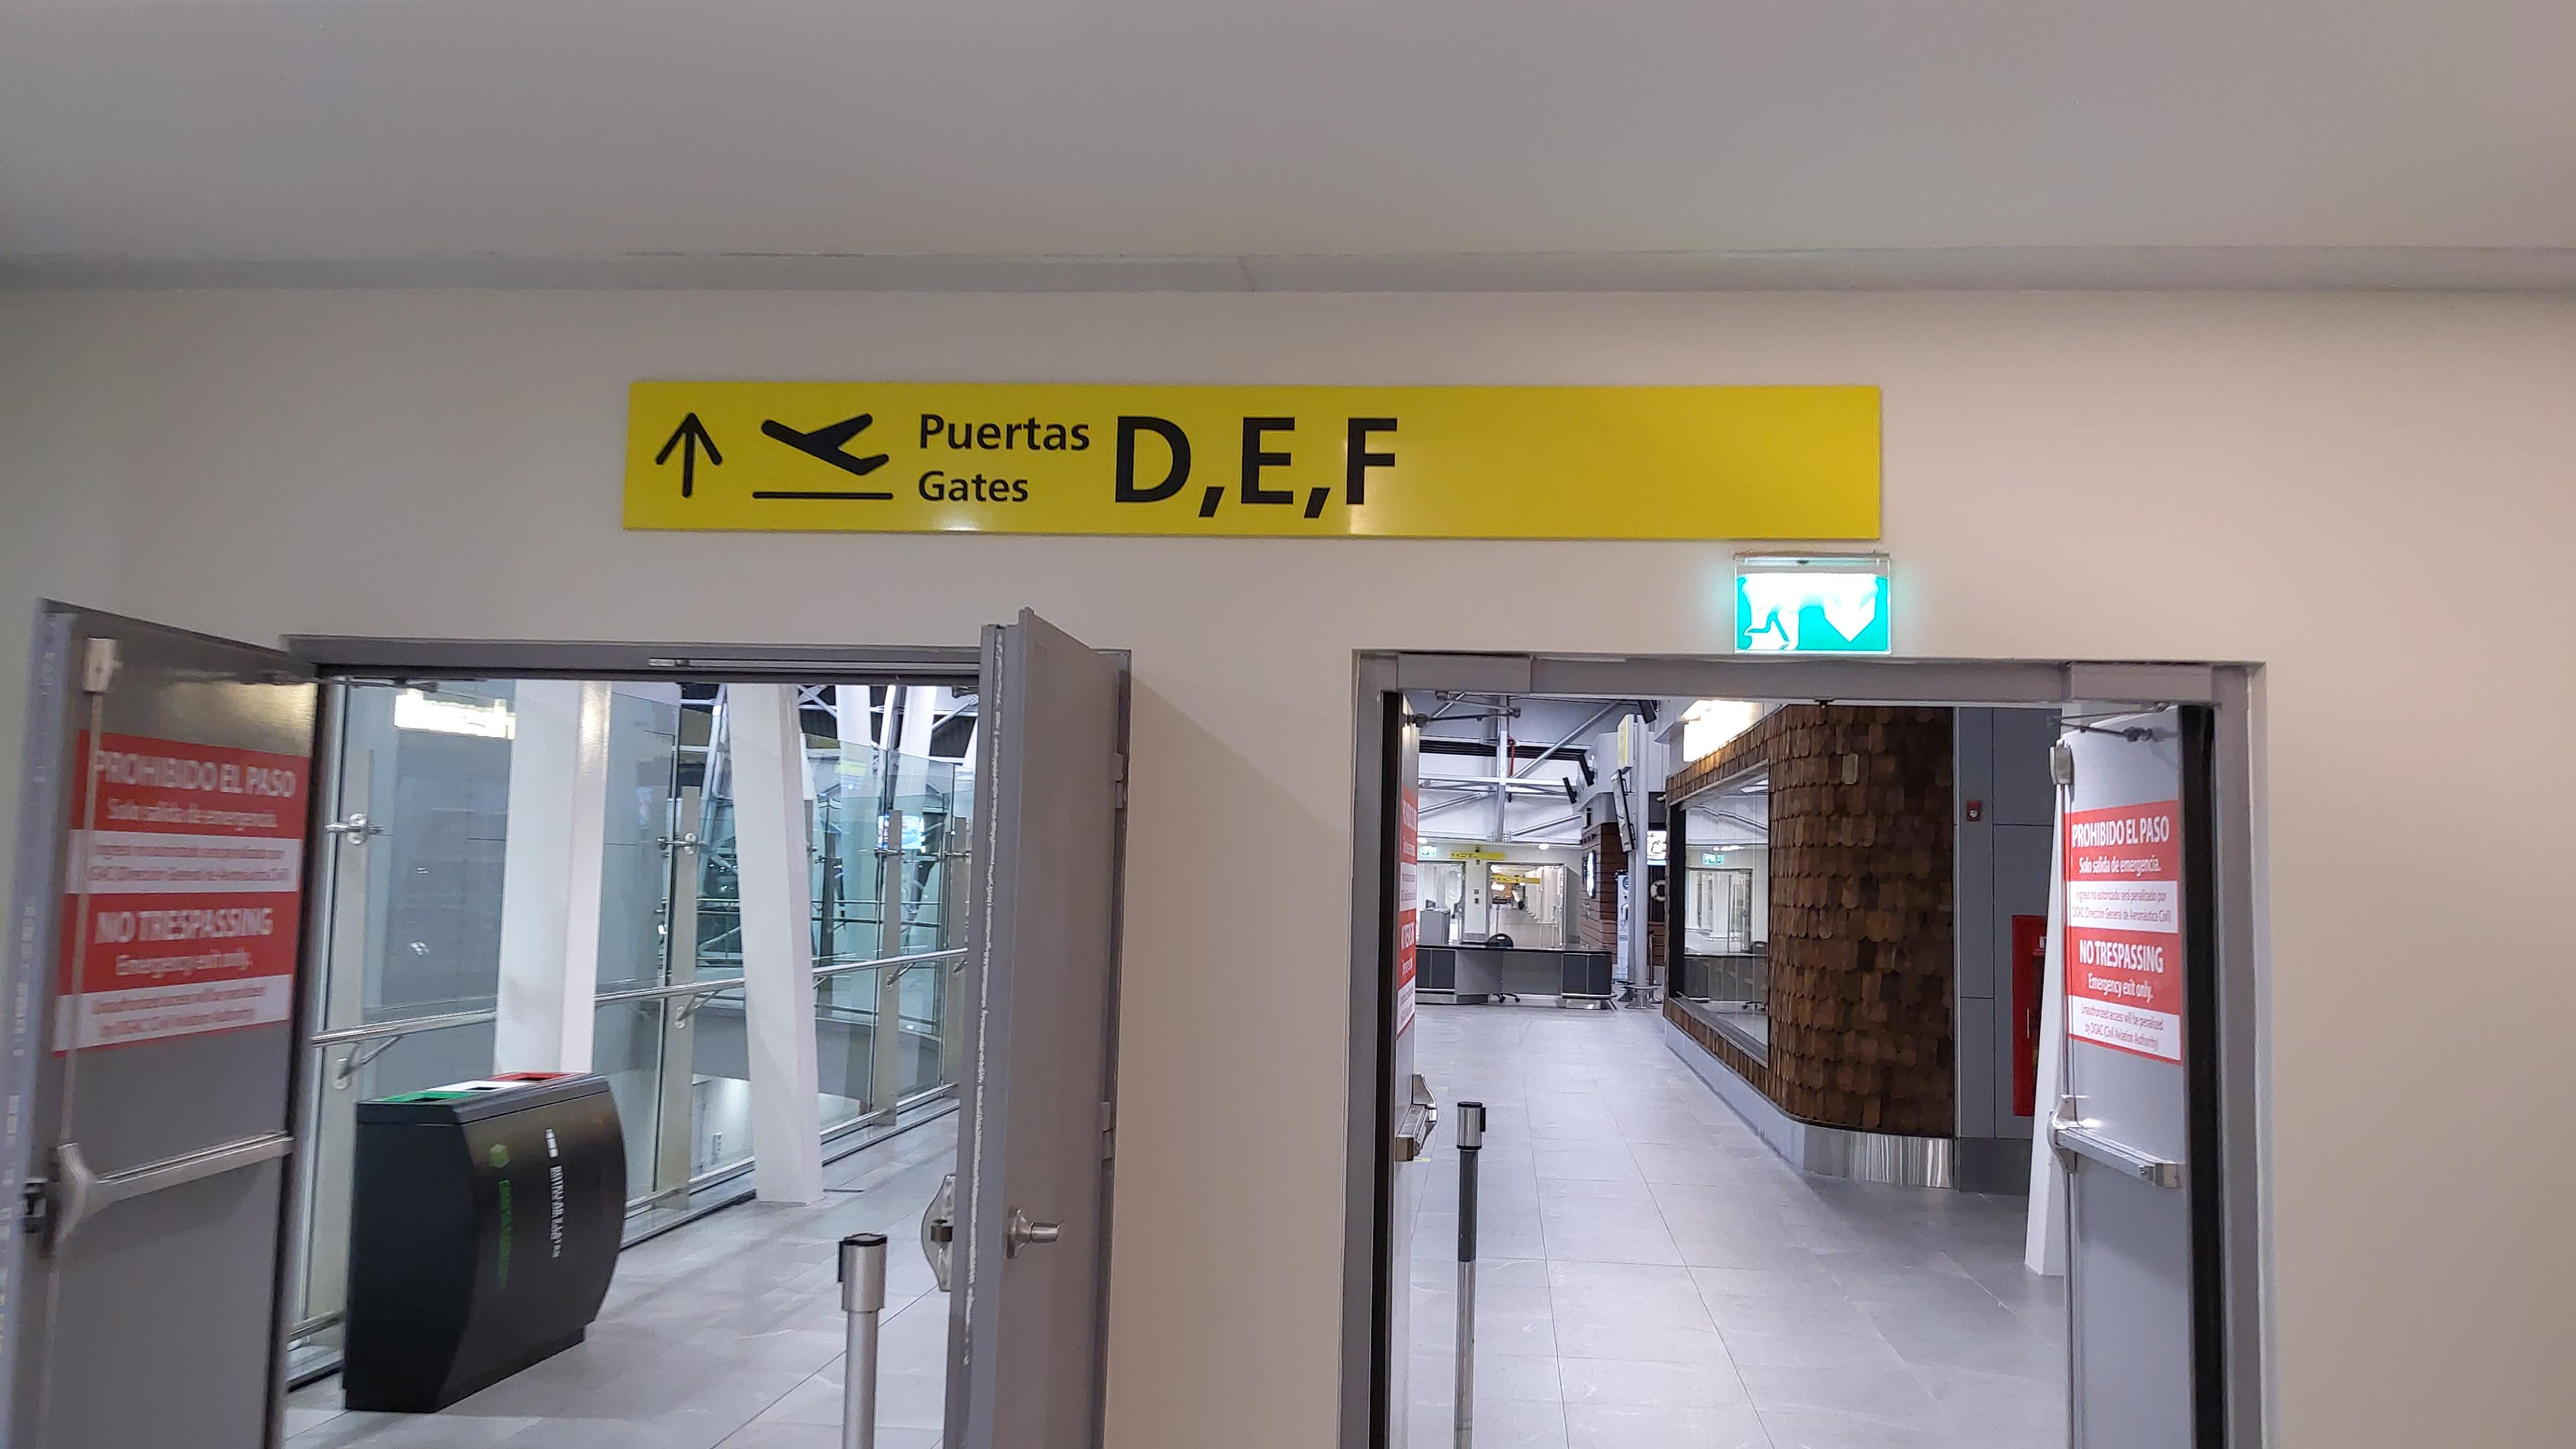airplane symbol: (750, 400, 897, 483)
thin up arrow: (644, 402, 732, 508)
